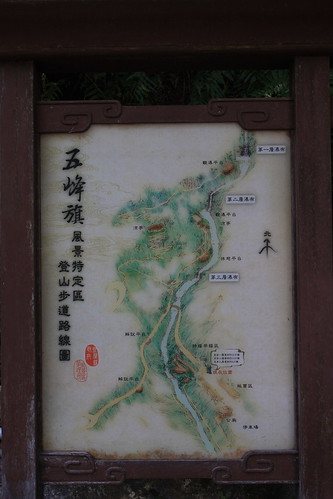wufengciMap: (46, 143, 289, 367)
